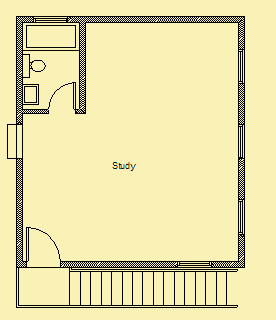door: (25, 226, 62, 269), (48, 80, 77, 115)
large_sink: (19, 52, 48, 78)
stairs: (67, 267, 241, 309)
tub: (20, 21, 83, 54)
window: (237, 48, 247, 84), (237, 126, 247, 158), (237, 200, 245, 236)
